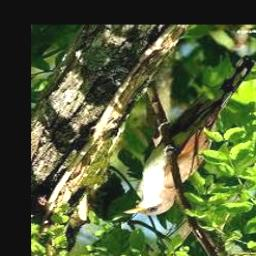Cuckoo: (123, 56, 253, 216)
